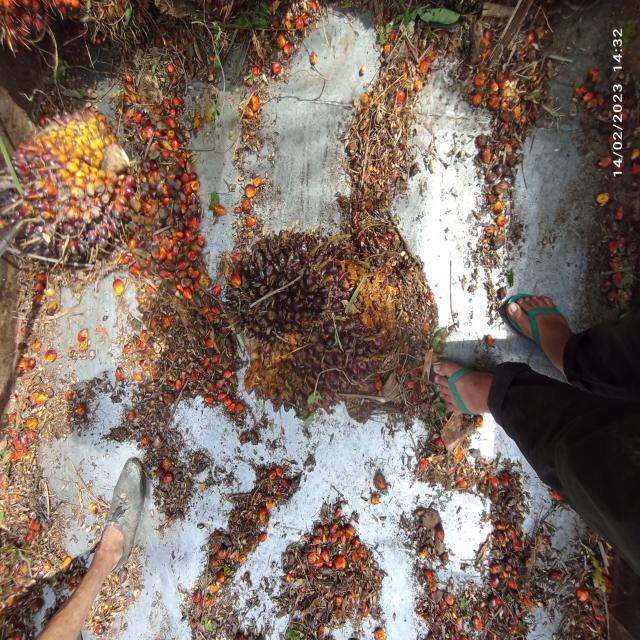fraksi 00: (222, 187, 436, 432), (0, 99, 146, 275)
